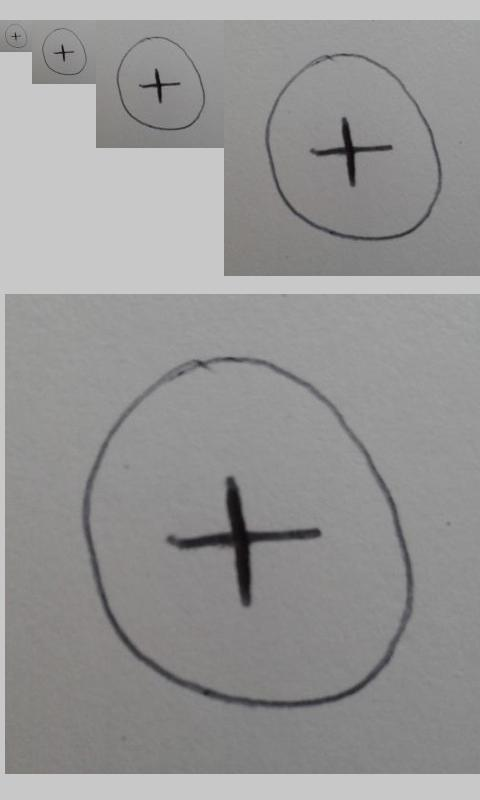button: (79, 356, 417, 709), (265, 51, 443, 242), (116, 35, 206, 131), (41, 27, 87, 76), (4, 23, 28, 49)
